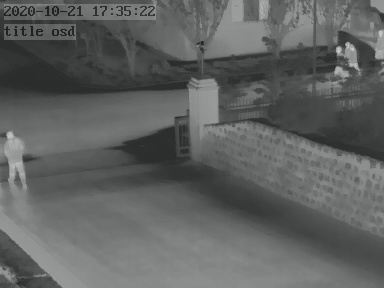person: (5, 126, 30, 184), (346, 38, 361, 76), (335, 41, 348, 76)
